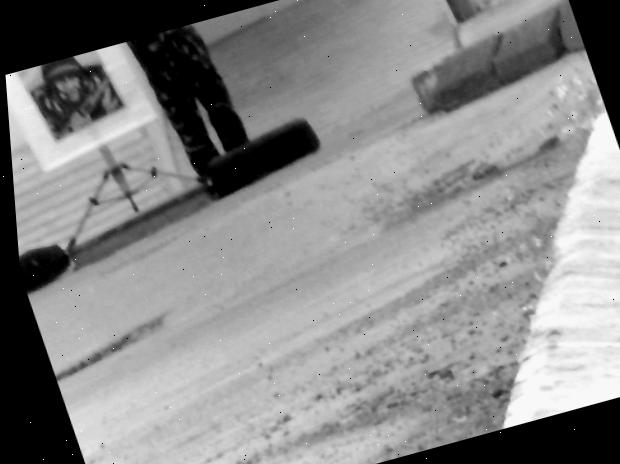bia: (18, 34, 126, 143)
chan: (31, 109, 212, 251)
